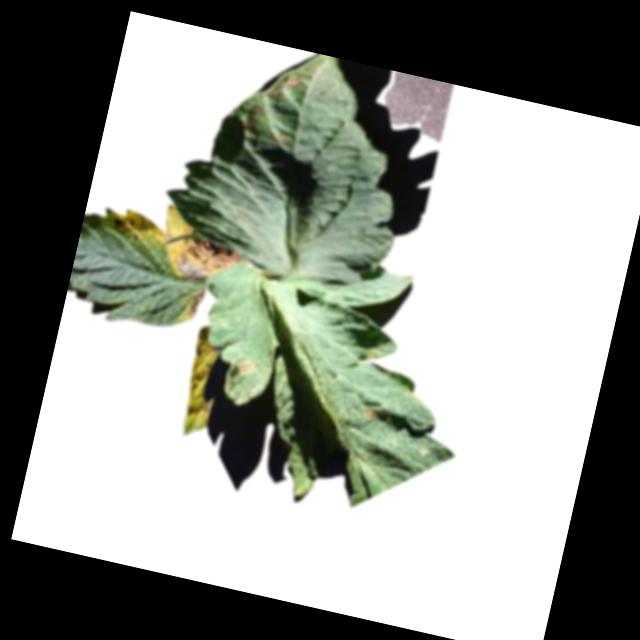Early_blight: (168, 220, 249, 290), (266, 70, 303, 102), (241, 100, 267, 130), (186, 284, 211, 314), (183, 395, 210, 420), (107, 208, 131, 232), (234, 356, 259, 379), (361, 402, 385, 421)
